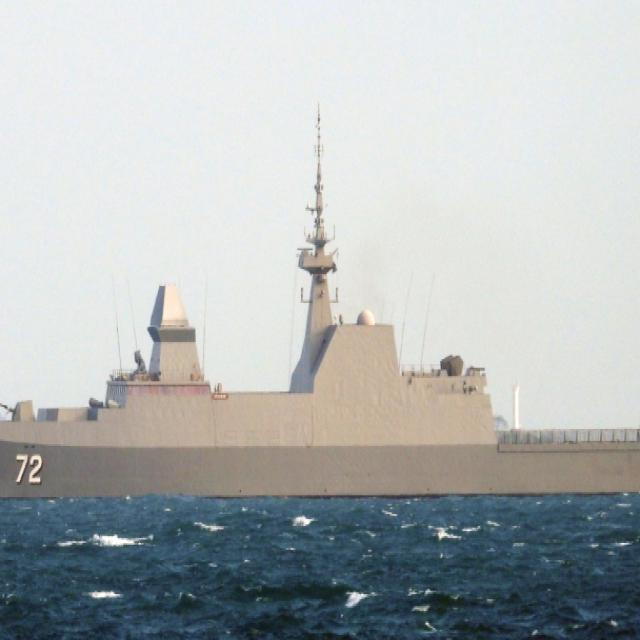Fragata: (1, 112, 640, 507)
